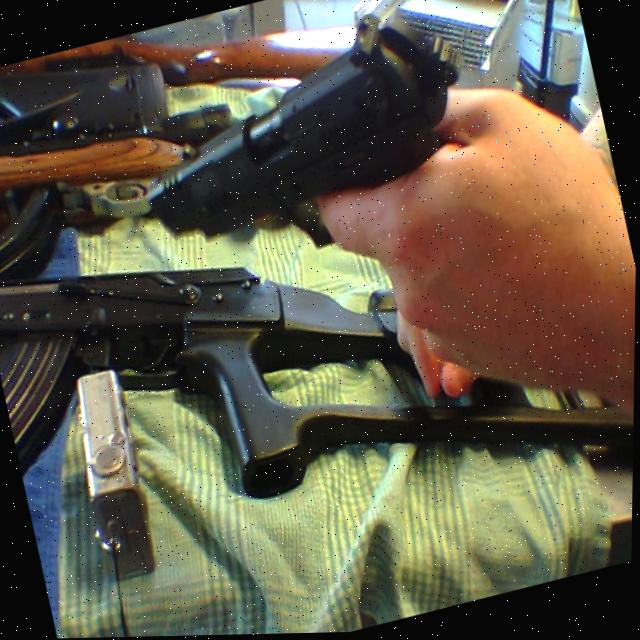firearm: (0, 127, 638, 616), (0, 101, 193, 251)
pistol: (121, 0, 481, 250)
